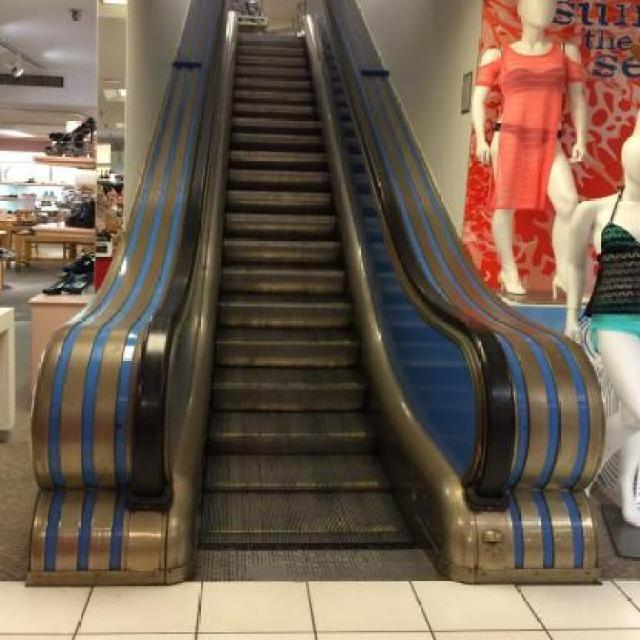stair: (183, 31, 451, 580)
